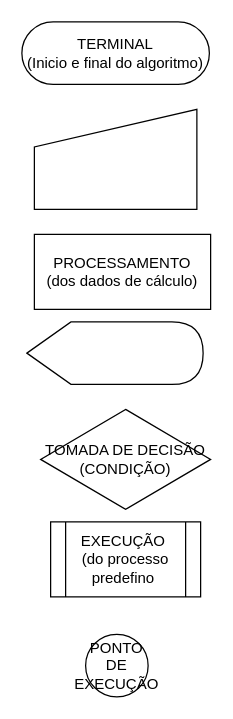
Some shapes in this 233 by 719 pixel diagram are drawn without their labels. Each missing label, with the centre of its shape:
ENTRADA (de dados via teclado): (x=115, y=158)
SAÍDA (de dados via vídeo): (x=114, y=352)
